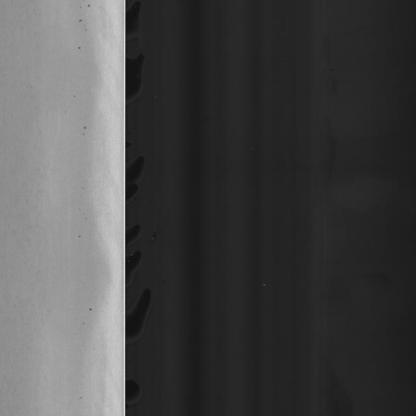inclusion: (76, 187, 88, 245), (81, 304, 93, 328), (77, 3, 88, 28), (80, 119, 90, 142), (76, 38, 85, 60)
silk_spot: (0, 19, 48, 386)
